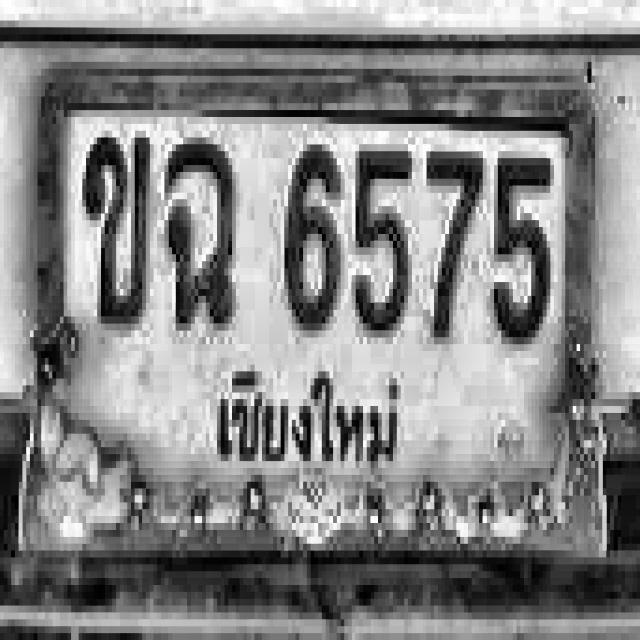license-plate: (29, 70, 602, 560)
